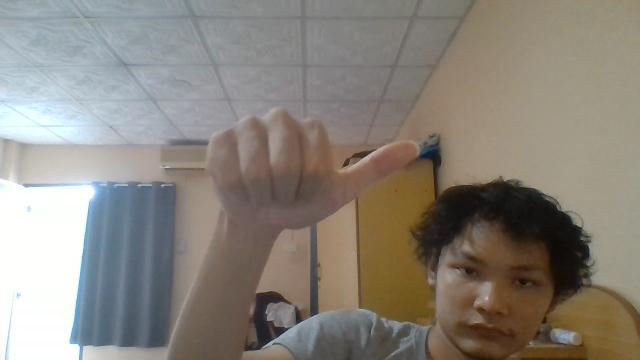left: (204, 106, 420, 230)
